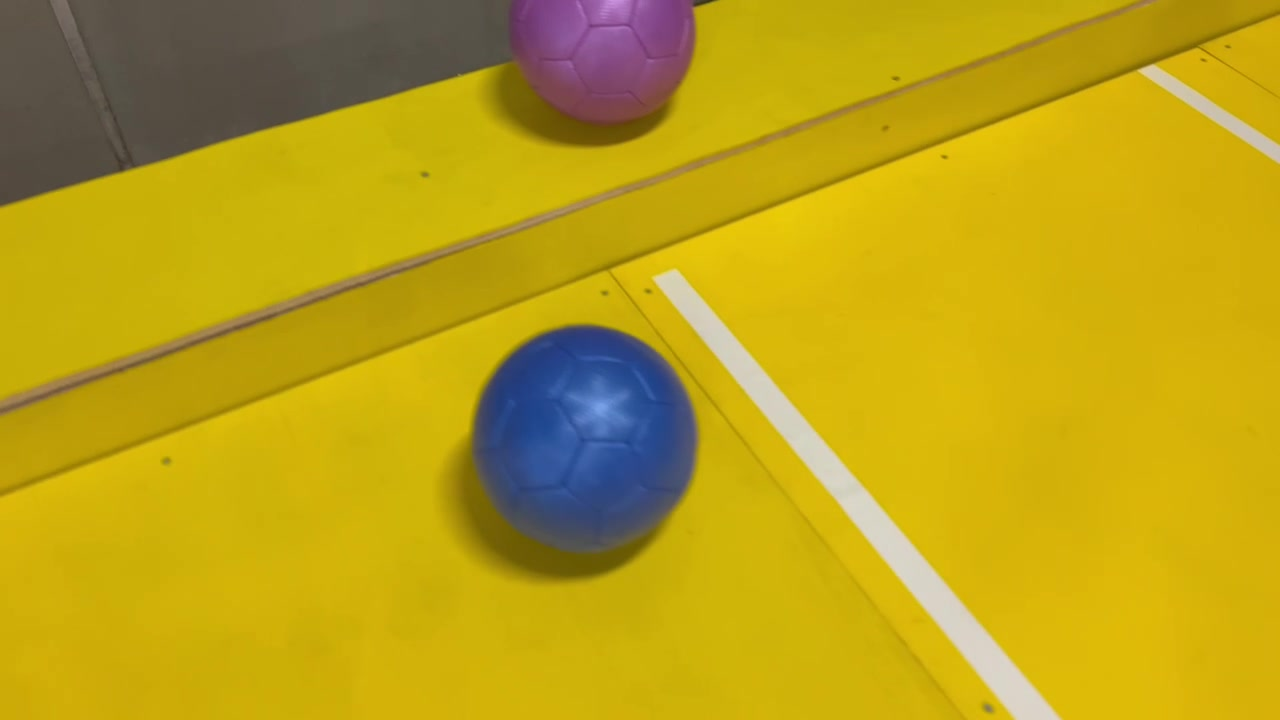blue: (443, 323, 702, 557)
